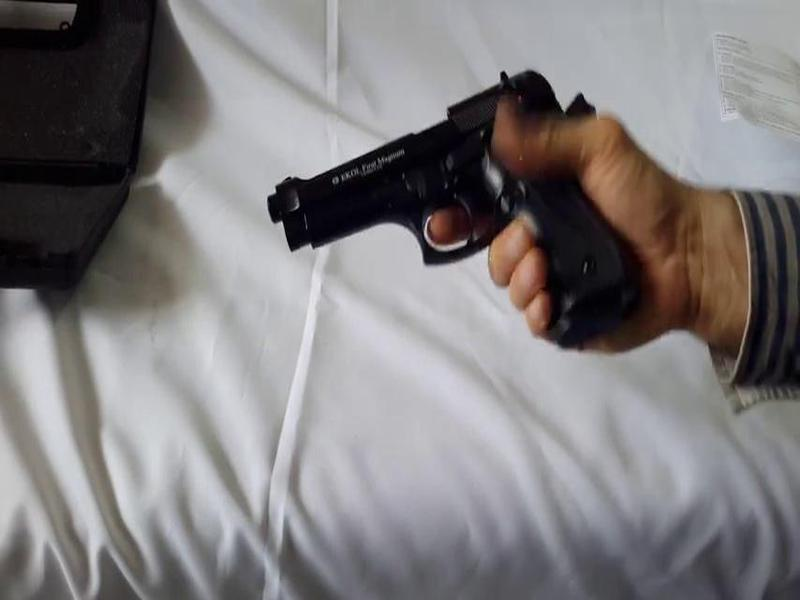Pistola: (259, 69, 641, 350)
